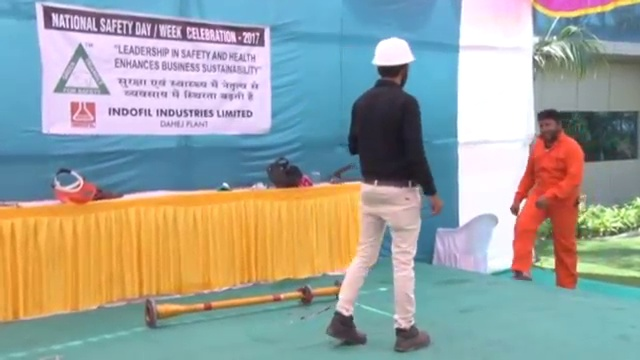helmet: (369, 36, 419, 67)
helmet_off: (535, 107, 564, 142)
helmet_on: (369, 35, 419, 89)
person: (329, 35, 441, 351), (509, 107, 582, 291)
